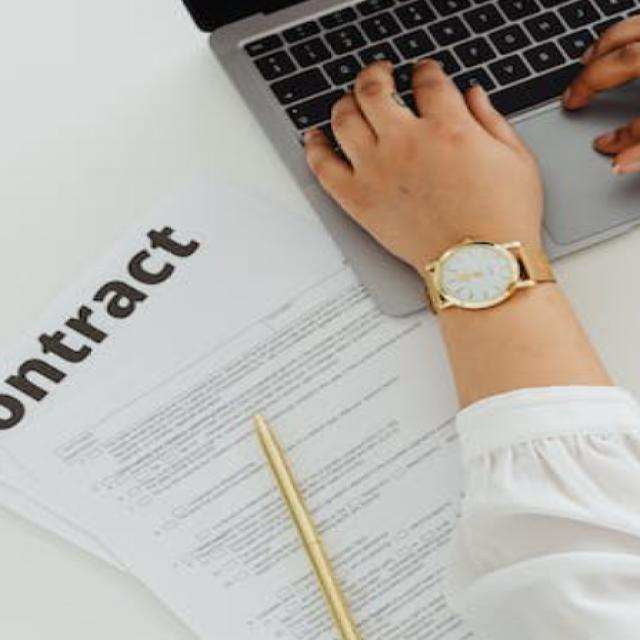Watch: (412, 235, 562, 316)
